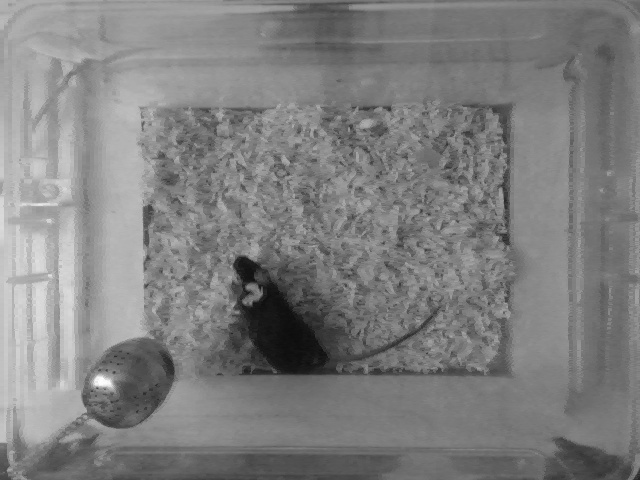mice: (222, 253, 445, 377)
